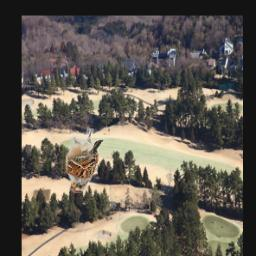Sparrow: (66, 129, 104, 193)
